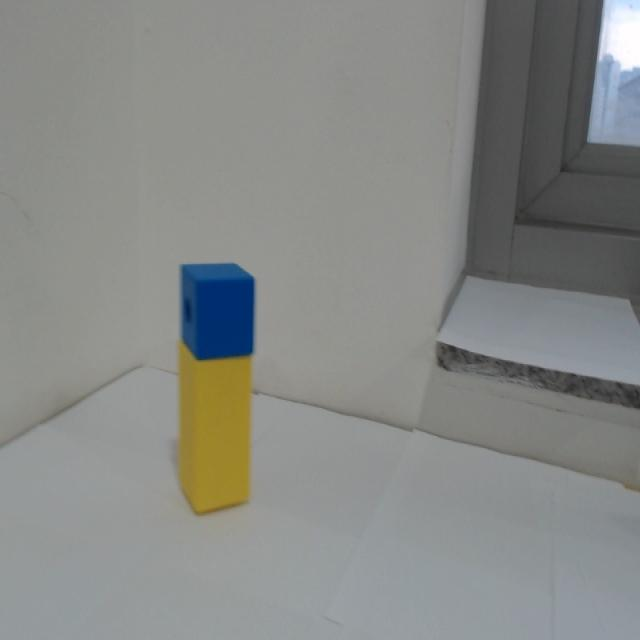cube: (174, 258, 258, 364)
